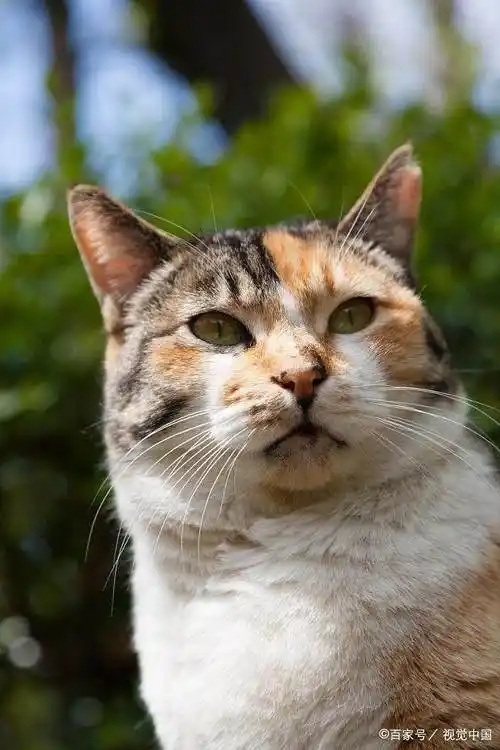三花猫: (68, 145, 451, 523), (115, 373, 496, 749)
